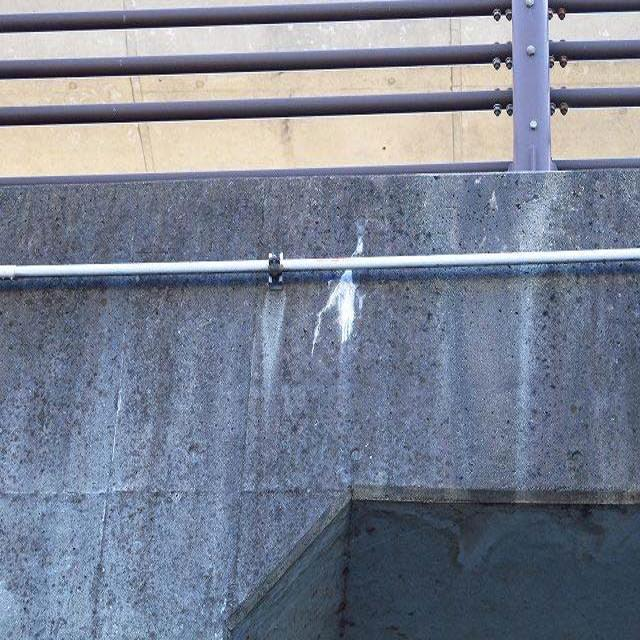freelime: (306, 244, 381, 354)
